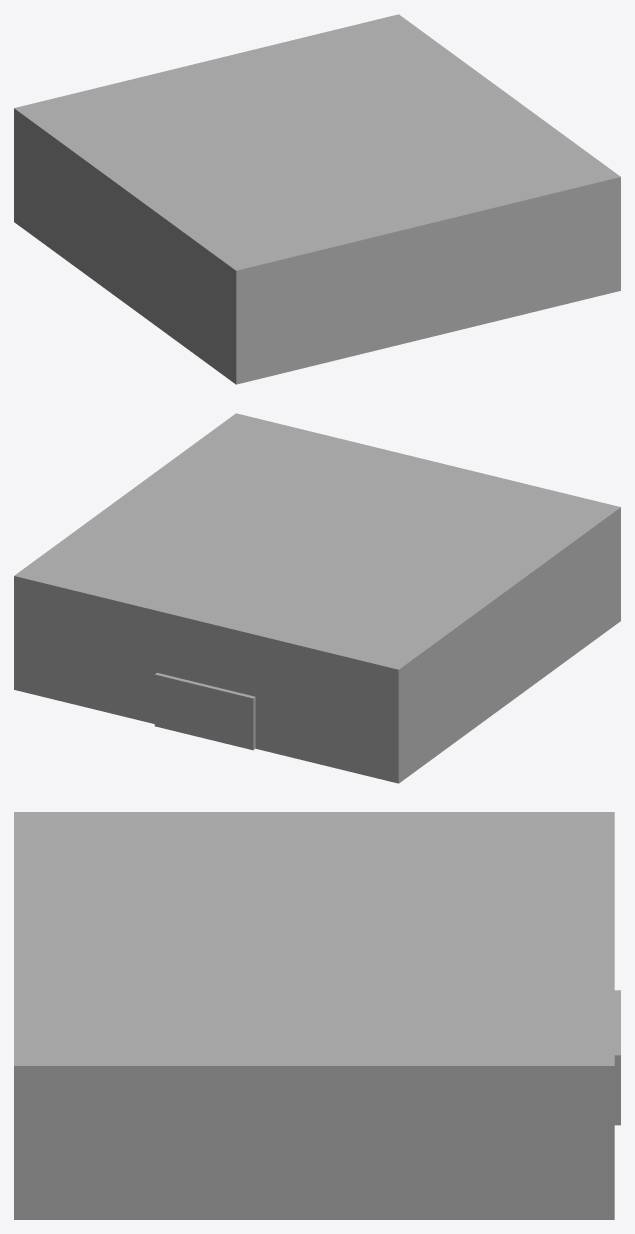
Rendered from Itr_Trashcan2_Cap_02.FBX.
3 renders of one model, top to bottom at view 1: azimuth 30°, elevation 25°; view 2: azimuth 150°, elevation 25°; view 3: azimuth 270°, elevation 25°, orthographic. The views are drawn at different scales.
Visible parts, largest first — view 1: Itr_Trashcan2_Cap_02; view 2: Itr_Trashcan2_Cap_02; view 3: Itr_Trashcan2_Cap_02.
Boxes of the visible parts, bbox=[...] form: Itr_Trashcan2_Cap_02: bbox=[14, 14, 620, 384]; Itr_Trashcan2_Cap_02: bbox=[14, 413, 620, 783]; Itr_Trashcan2_Cap_02: bbox=[14, 812, 620, 1219].
Size of the model in its own units: 14.85 by 4.2 by 15.01.
